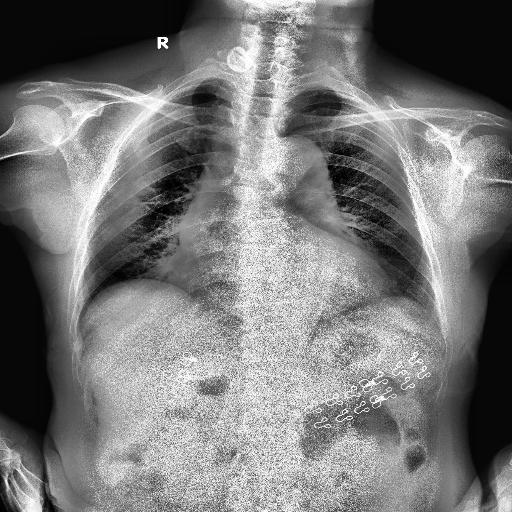0- Aortic enlargement: (272, 134, 343, 228), (269, 136, 323, 206), (275, 134, 325, 184)
3- Cardiomegaly: (167, 221, 392, 301), (162, 244, 391, 300), (166, 241, 395, 295)
9- Other lesion: (220, 47, 260, 75)
